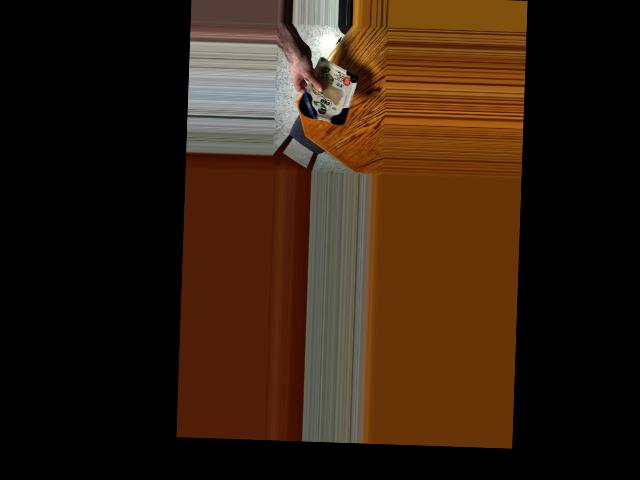cheese: (296, 66, 357, 127)
